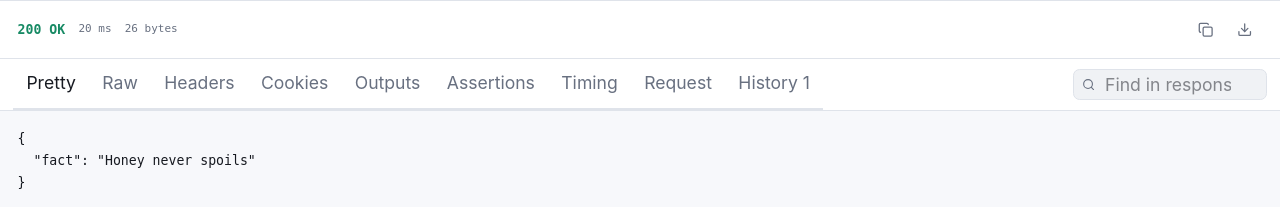
Test: ResponseViewer › shows formatted bodies, headers, and selectable history
Expected: the text "200 OK" is shown, [18,21,65,38]
Expected: the text "{ \"fact\": \"Honey never spoils\" }" is shown, [18,131,256,190]
Click the button "Headers": (199, 84) [151,59,248,110]
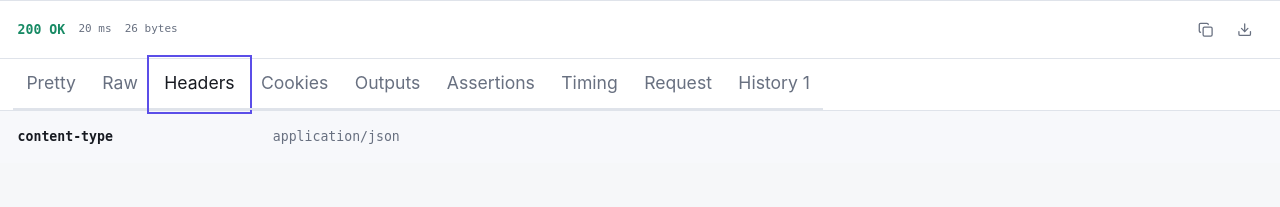
Now the text "content-type" is shown, box [18,129,113,144]
Click the button "History 1": (774, 84) [725,59,823,110]
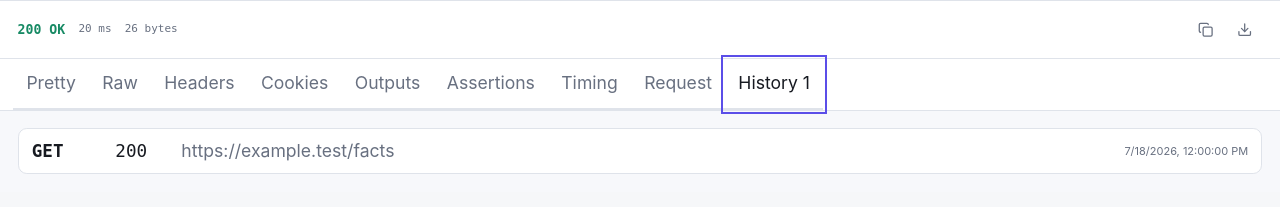
Now the text "https://example.test/facts" is shown, box [181,140,394,161]
